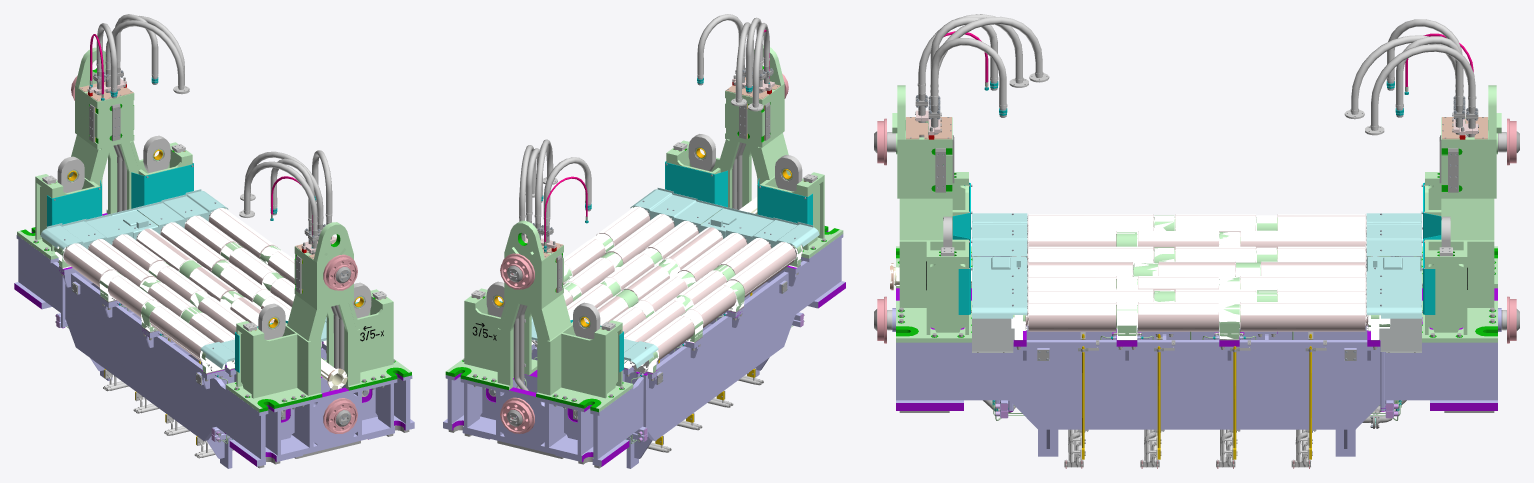
Rendered from SEGMENT_3_5_FIXED_SIDE_FRAME.glb.
3 renders of one model, left to right at view 1: azimuth 30°, elevation 25°; view 2: azimuth 150°, elevation 25°; view 3: azimuth 270°, elevation 25°, orthographic. The views are drawn at different scales.
Parts seen in each view (by area): view 1: Model, ROLLSET_7, ROLLSET_3, ROLLSET_4, ROLLSET_6, ROLLSET_2, ROLLSET_5, ROLLSET_1; view 2: Model, ROLLSET_7, ROLLSET_3, ROLLSET_4, ROLLSET_6, ROLLSET_2, ROLLSET_5, ROLLSET_1; view 3: Model, ROLLSET_1, ROLLSET_7, ROLLSET_5, ROLLSET_3, ROLLSET_4, ROLLSET_2, ROLLSET_6.
Boxes of the visible parts, x1=… form: Model: x1=14, y1=14, x2=414, y2=468; ROLLSET_7: x1=55, y1=243, x2=224, y2=373; ROLLSET_3: x1=161, y1=222, x2=321, y2=347; ROLLSET_4: x1=137, y1=228, x2=346, y2=389; ROLLSET_6: x1=89, y1=239, x2=234, y2=369; ROLLSET_2: x1=185, y1=215, x2=326, y2=345; ROLLSET_5: x1=115, y1=234, x2=245, y2=326; ROLLSET_1: x1=210, y1=208, x2=294, y2=278; Model: x1=443, y1=14, x2=845, y2=468; ROLLSET_7: x1=630, y1=242, x2=802, y2=372; ROLLSET_3: x1=534, y1=221, x2=697, y2=347; ROLLSET_4: x1=584, y1=197, x2=757, y2=325; ROLLSET_6: x1=624, y1=238, x2=770, y2=369; ROLLSET_2: x1=531, y1=214, x2=673, y2=344; ROLLSET_5: x1=613, y1=233, x2=743, y2=325; ROLLSET_1: x1=564, y1=206, x2=648, y2=282; Model: x1=874, y1=14, x2=1519, y2=468; ROLLSET_1: x1=1011, y1=302, x2=1390, y2=339; ROLLSET_7: x1=1027, y1=214, x2=1366, y2=236; ROLLSET_5: x1=1011, y1=246, x2=1390, y2=266; ROLLSET_3: x1=1027, y1=276, x2=1366, y2=294; ROLLSET_4: x1=890, y1=261, x2=1366, y2=286; ROLLSET_2: x1=1027, y1=289, x2=1366, y2=307; ROLLSET_6: x1=1027, y1=231, x2=1366, y2=251.
Size of the model in its own units: 2.04 by 3.66 by 5.37.
